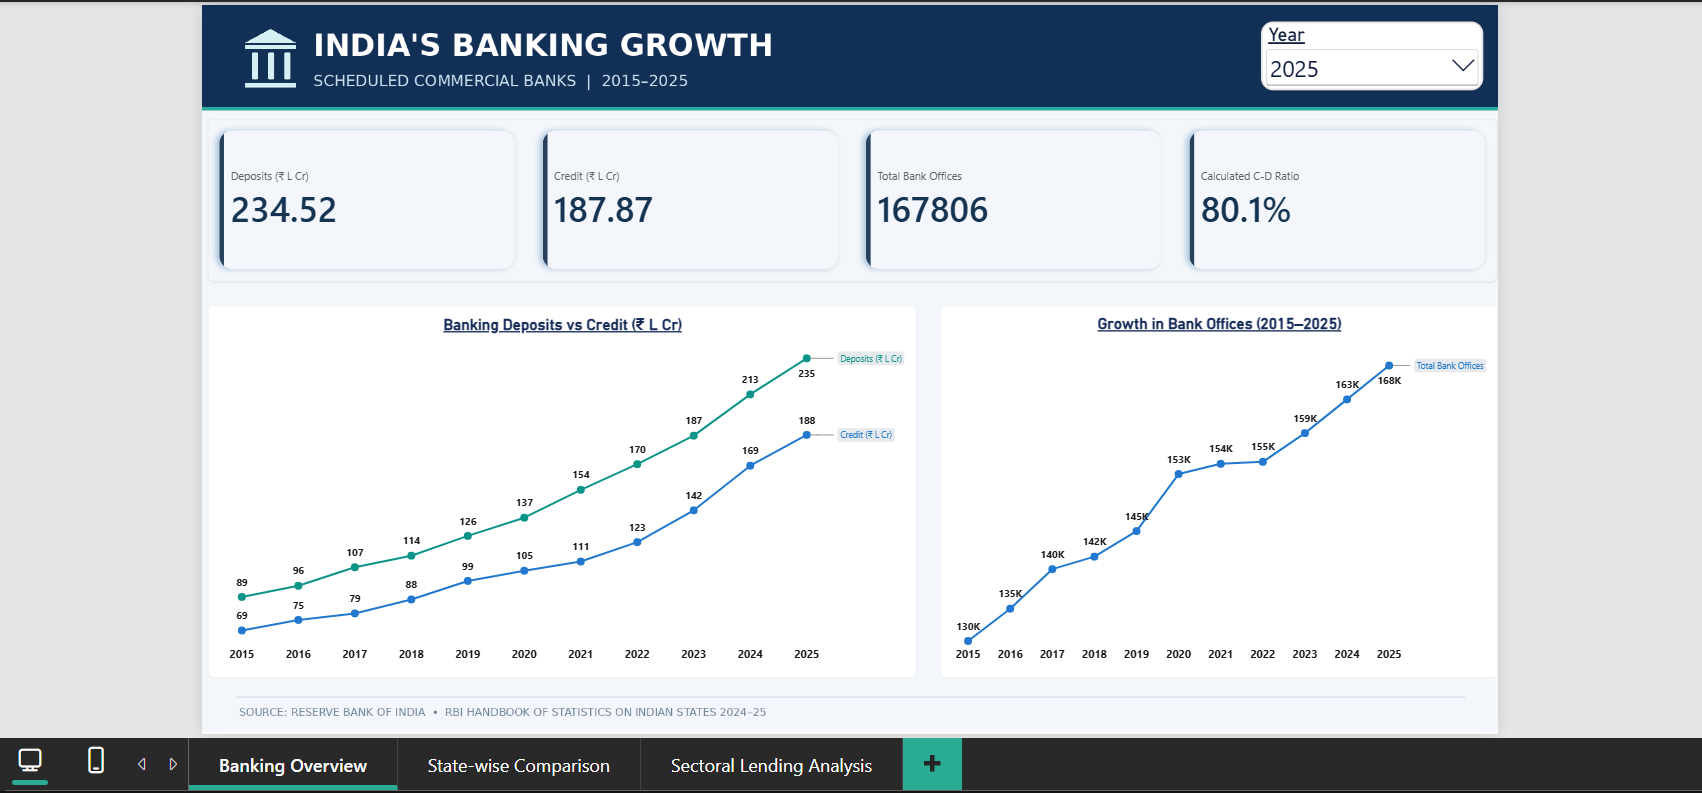

Layout of this report page (visuals, bound fields, positions):
{"tool":"powerbi","page":{"name":"Banking Overview","canvas":[1920,1080],"ordinal":0},"visuals":[{"type":"slicer","title":"Year","fields":{"Values":["Fact_Banking.Year"]},"box":[1569.5,25,329.3,102.2],"z":0},{"type":"cardVisual","fields":{"Data":["Fact_Banking.Deposits (₹ L Cr)","Fact_Banking.Credit (₹ L Cr)","Fact_Banking.Total Bank Offices","Fact_Banking.Calculated C-D Ratio"]},"box":[9.1,168.1,1910.2,240.8],"z":1000},{"type":"lineChart","title":"Banking Deposits vs Credit (₹ L Cr)","fields":{"Category":["Fact_Banking.Year"],"Y":["Fact_Banking.Credit (₹ L Cr)","Fact_Banking.Deposits (₹ L Cr)"]},"box":[9.1,445.2,1049.3,551.9],"z":2000},{"type":"lineChart","title":"Growth in Bank Offices (2015–2025)","fields":{"Category":["Fact_Banking.Year"],"Y":["Fact_Banking.Total Bank Offices"]},"box":[1092.5,445.2,826.8,551.9],"z":3000}]}

Visuals, with their boxes on the page's 1920x1080 design canvas (x1, y1, x2, y2). These are canvas units, not pixel positions in the 1702x793 screenshot, which may show the page scaled, cropped or inside an application window:
"Year" slicer: [left=1570, top=25, right=1899, bottom=127]
cardVisual - Fact_Banking.Deposits (₹ L Cr) x Fact_Banking.Credit (₹ L Cr): [left=9, top=168, right=1919, bottom=409]
"Banking Deposits vs Credit (₹ L Cr)" lineChart: [left=9, top=445, right=1058, bottom=997]
"Growth in Bank Offices (2015–2025)" lineChart: [left=1092, top=445, right=1919, bottom=997]
